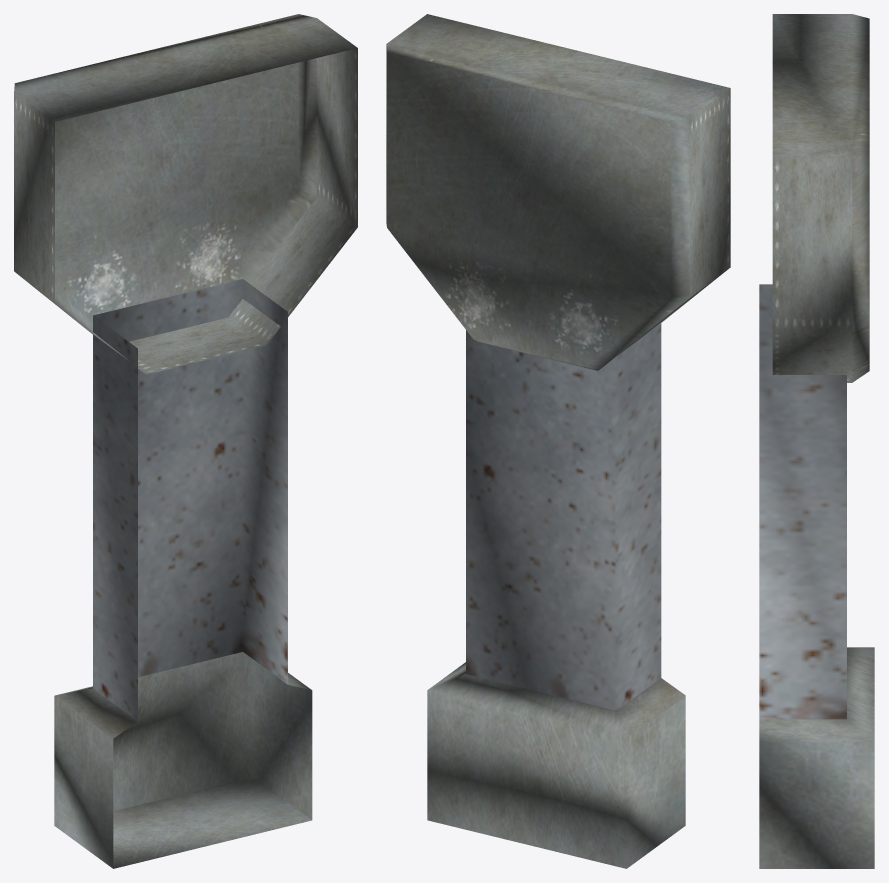
The model's file is Ob_PlatformEdgeDetail_RC.fbx.
3 views of the same model, side by side, from view 1: azimuth 30°, elevation 25°; view 2: azimuth 150°, elevation 25°; view 3: azimuth 270°, elevation 25° (orthographic). The views are drawn at different scales.
Visible parts, largest first — view 1: Ob_PlatformEdgeDetail_RC; view 2: Ob_PlatformEdgeDetail_RC; view 3: Ob_PlatformEdgeDetail_RC.
Part boxes in pixels (box(x1,y1,x2,y2)): Ob_PlatformEdgeDetail_RC: box(14, 14, 357, 868); Ob_PlatformEdgeDetail_RC: box(386, 14, 730, 868); Ob_PlatformEdgeDetail_RC: box(759, 14, 874, 868).
Bounding box in the file's own units: 80.17 × 191 × 27.08.
